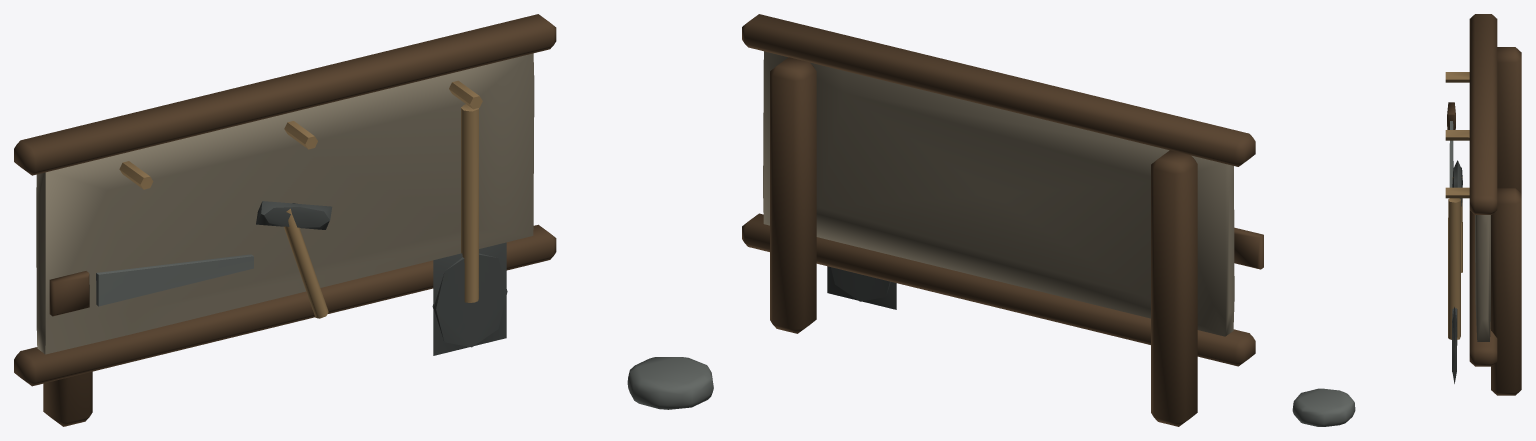
Rendered from tool_peg_a_lod1.glb.
3 views of the same model, side by side, from view 1: azimuth 30°, elevation 25°; view 2: azimuth 150°, elevation 25°; view 3: azimuth 270°, elevation 25° (orthographic). The views are drawn at different scales.
Visible parts, largest first — view 1: Surface.001; view 2: Surface.001; view 3: Surface.001.
Boxes of the visible parts, left/top/right/bottom form: Surface.001: left=14, top=14, right=713, bottom=426; Surface.001: left=742, top=14, right=1263, bottom=426; Surface.001: left=1292, top=14, right=1521, bottom=426.
Size of the model in its own units: 3.16 by 1.57 by 1.51.
